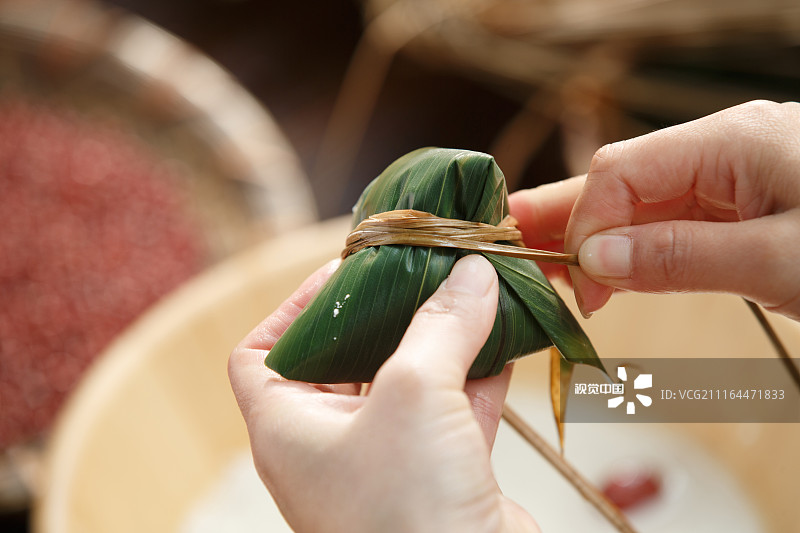no-phone: (211, 218, 557, 533), (454, 88, 800, 319)
